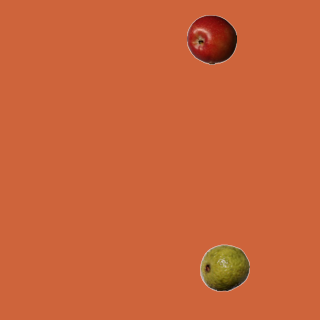Apple Braeburn: (186, 14, 236, 64)
Guava: (199, 242, 249, 292)
